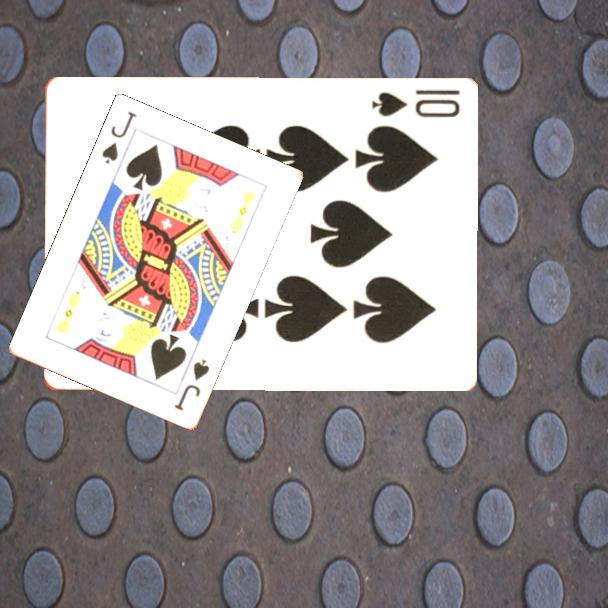s10: (368, 86, 462, 121)
s11: (98, 108, 140, 167), (171, 356, 213, 414)
